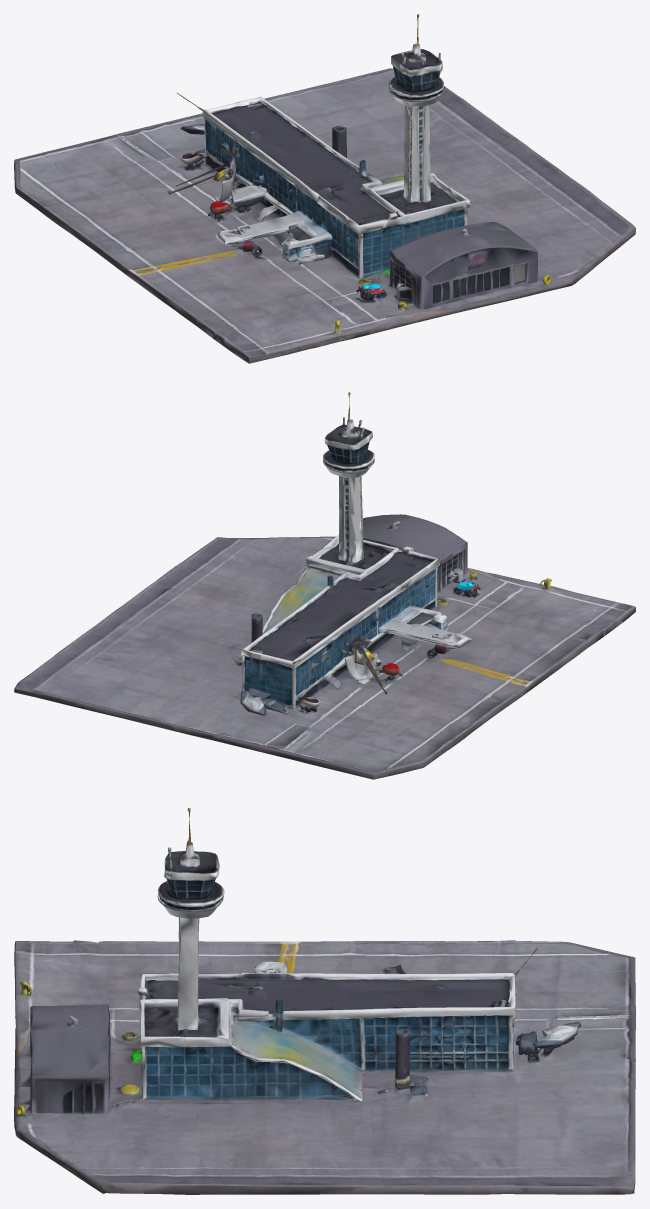
The model's file is airport_terminal.glb.
3 renders of one model, top to bottom at view 1: azimuth 30°, elevation 25°; view 2: azimuth 150°, elevation 25°; view 3: azimuth 270°, elevation 25°, orthographic. The views are drawn at different scales.
Visible parts, largest first — view 1: tripo_node_dbf0263c-3374-4a5a-a641-1ba1399cb463; view 2: tripo_node_dbf0263c-3374-4a5a-a641-1ba1399cb463; view 3: tripo_node_dbf0263c-3374-4a5a-a641-1ba1399cb463.
Boxes of the visible parts, bbox=[...] form: tripo_node_dbf0263c-3374-4a5a-a641-1ba1399cb463: bbox=[14, 14, 635, 363]; tripo_node_dbf0263c-3374-4a5a-a641-1ba1399cb463: bbox=[14, 392, 635, 779]; tripo_node_dbf0263c-3374-4a5a-a641-1ba1399cb463: bbox=[14, 808, 635, 1194].
Bounding box in the file's own units: 0.9369 × 0.4996 × 0.9999.
1 material, 1 textured.
